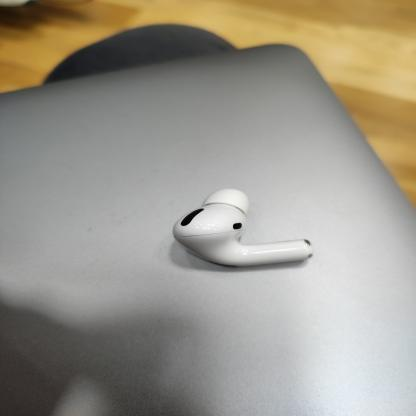Airpods: (171, 173, 319, 285)
